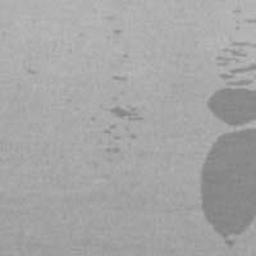Oil spot: (200, 131, 256, 252), (206, 41, 256, 131), (109, 104, 145, 124), (104, 124, 119, 136), (104, 147, 120, 156), (111, 76, 127, 83), (243, 18, 256, 24), (114, 29, 125, 35), (129, 133, 138, 140)
